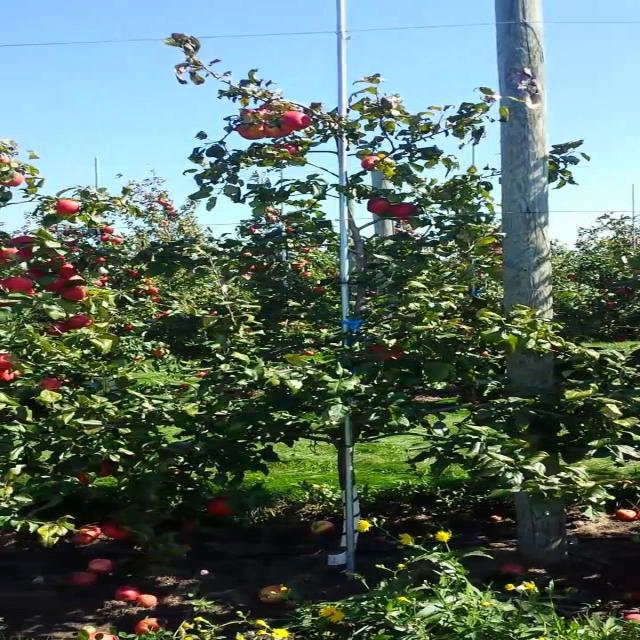apple: (284, 112, 313, 131), (106, 520, 130, 540), (205, 500, 235, 516), (390, 204, 420, 218), (241, 124, 265, 140), (56, 200, 80, 216), (6, 280, 36, 292), (369, 200, 391, 214), (248, 108, 272, 120), (269, 128, 292, 140), (70, 316, 92, 328), (63, 288, 85, 300), (56, 264, 78, 276), (6, 176, 27, 188), (49, 324, 71, 335), (49, 280, 69, 292), (8, 252, 34, 261), (276, 144, 299, 154), (362, 156, 379, 169), (99, 464, 116, 477), (13, 236, 36, 245), (42, 380, 64, 389), (15, 252, 34, 262), (28, 268, 44, 279), (383, 352, 405, 360), (49, 256, 66, 265), (77, 476, 92, 484), (6, 372, 16, 380), (70, 276, 85, 281), (376, 348, 386, 352)
